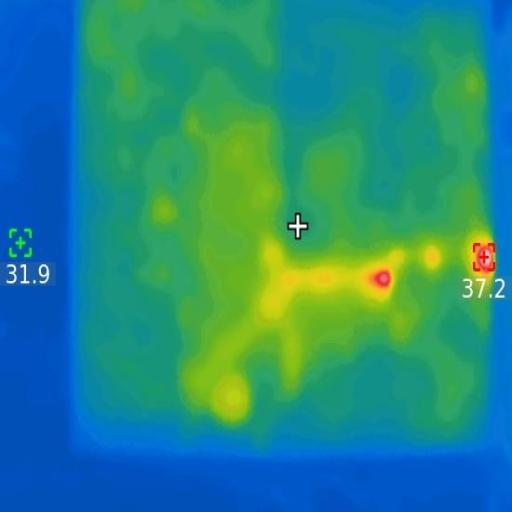hotspot: (472, 242, 499, 276), (368, 266, 392, 292)
